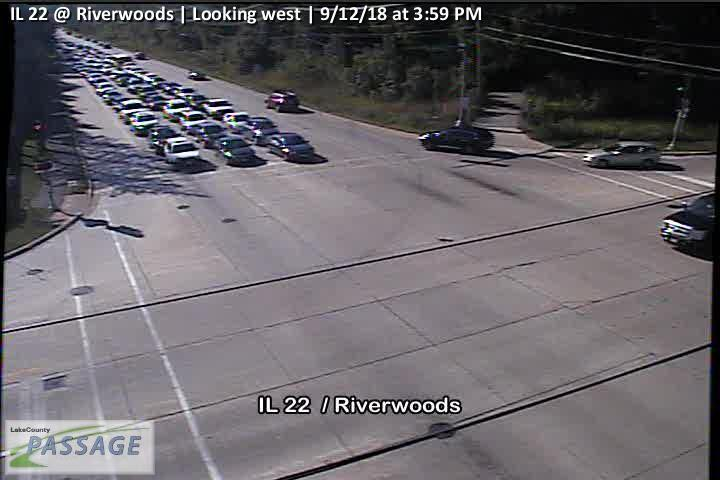SUV: (582, 140, 660, 168), (417, 127, 494, 153), (243, 117, 280, 146), (166, 142, 201, 166), (196, 123, 228, 149), (264, 89, 299, 112), (162, 99, 192, 122), (131, 112, 159, 136)
Sedan: (660, 192, 718, 246), (267, 133, 315, 162), (217, 136, 256, 163), (223, 112, 251, 133), (179, 111, 207, 132), (204, 98, 234, 117), (187, 71, 204, 80)
